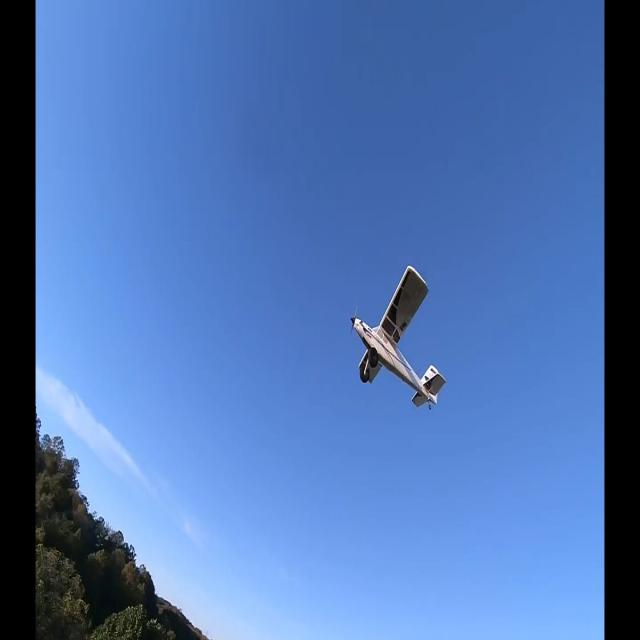iha: (381, 261, 414, 412)
